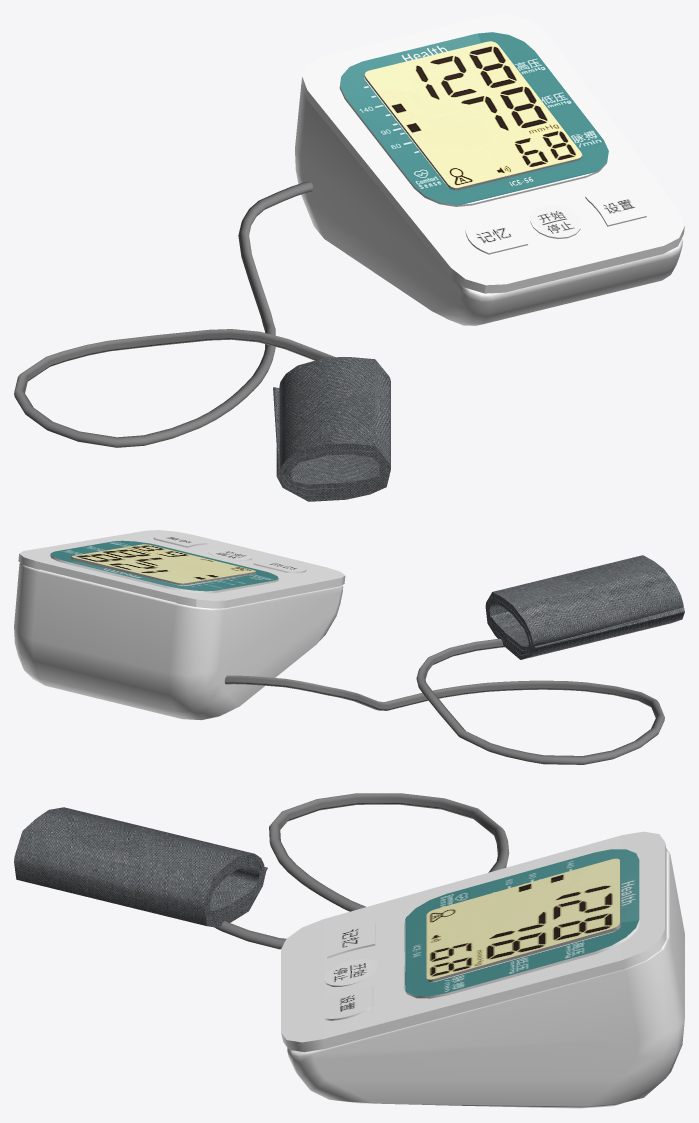
File: xueyaji.fbx
3 views of the same model, one above another, from view 1: azimuth 30°, elevation 25°; view 2: azimuth 150°, elevation 25°; view 3: azimuth 270°, elevation 25° (orthographic). The views are drawn at different scales.
Parts seen in each view (by area): view 1: xuayaji6, xuayaji7, xuayaji1, xuayaji4, xuayaji, xuayaji8, xuayaji5, xuayaji3, xuayaji2; view 2: xuayaji7, xuayaji4, xuayaji6, xuayaji8, xuayaji1, xuayaji, xuayaji3, xuayaji5; view 3: xuayaji7, xuayaji6, xuayaji4, xuayaji1, xuayaji, xuayaji8, xuayaji5, xuayaji3, xuayaji2.
Boxes of the visible parts, x1,y1,x2,y2 form: xuayaji6: (301, 14, 684, 293); xuayaji7: (295, 85, 682, 325); xuayaji1: (364, 41, 581, 190); xuayaji4: (273, 357, 390, 501); xuayaji: (339, 32, 608, 206); xuayaji8: (14, 181, 335, 447); xuayaji5: (585, 187, 647, 226); xuayaji3: (465, 215, 527, 254); xuayaji2: (530, 205, 581, 238); xuayaji7: (14, 563, 343, 720); xuayaji4: (485, 555, 684, 659); xuayaji6: (18, 530, 345, 608); xuayaji8: (224, 638, 664, 764); xuayaji1: (71, 544, 255, 585); xuayaji: (50, 540, 278, 593); xuayaji3: (253, 559, 306, 573); xuayaji5: (153, 534, 206, 547); xuayaji7: (287, 849, 684, 1108); xuayaji6: (281, 831, 666, 1052); xuayaji4: (14, 807, 267, 927); xuayaji1: (426, 858, 621, 981); xuayaji: (403, 849, 640, 998); xuayaji8: (214, 793, 509, 949); xuayaji5: (324, 985, 373, 1020); xuayaji3: (327, 923, 375, 958); xuayaji2: (324, 959, 377, 986).
Size of the model in its own units: 46.68 by 12.02 by 40.47.
Materials: 6 (4 with a texture image).
